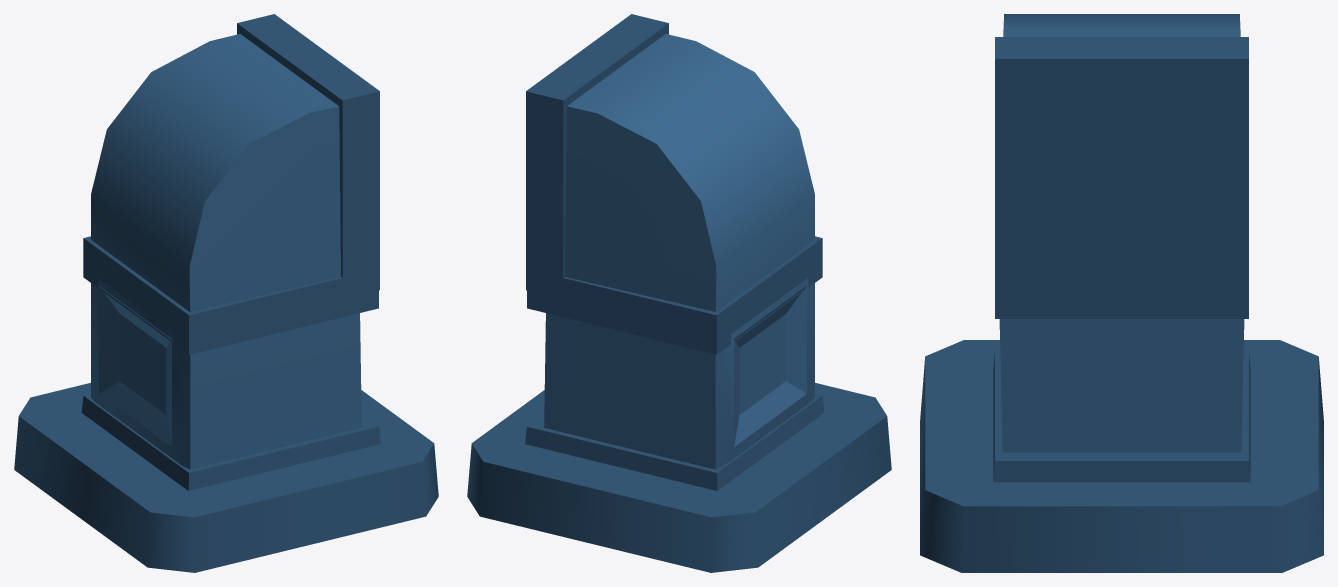
The model's file is Vent_2_C_3.fbx.
3 views of the same model, side by side, from view 1: azimuth 30°, elevation 25°; view 2: azimuth 150°, elevation 25°; view 3: azimuth 270°, elevation 25° (orthographic). The views are drawn at different scales.
Parts seen in each view (by area): view 1: Vent_2_C_3; view 2: Vent_2_C_3; view 3: Vent_2_C_3.
Boxes of the visible parts, <box> form: Vent_2_C_3: <box>14,14,438,572</box>; Vent_2_C_3: <box>467,14,891,572</box>; Vent_2_C_3: <box>920,14,1323,572</box>.
Size of the model in its own units: 56.66 by 75.52 by 56.66.
